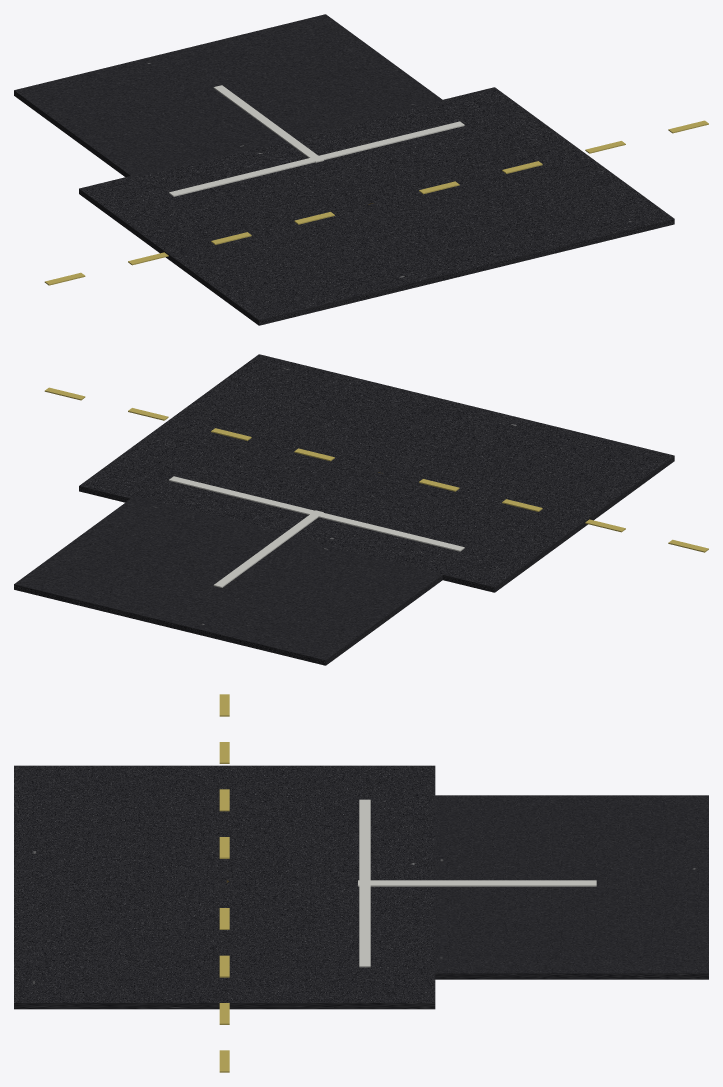
Rendered from WK_TER_RoadTee.glb.
3 renders of one model, top to bottom at view 1: azimuth 30°, elevation 25°; view 2: azimuth 150°, elevation 25°; view 3: azimuth 270°, elevation 25°, orthographic. The views are drawn at different scales.
Parts seen in each view (by area): view 1: WK_TER_RoadTee_P02, WK_TER_RoadTee_P04, WK_TER_RoadTee_P01, WK_TER_RoadTee_P14, WK_TER_RoadTee_P13, WK_TER_RoadTee_P03; view 2: WK_TER_RoadTee_P02, WK_TER_RoadTee_P04, WK_TER_RoadTee_P03, WK_TER_RoadTee_P14, WK_TER_RoadTee_P01, WK_TER_RoadTee_P13; view 3: WK_TER_RoadTee_P02, WK_TER_RoadTee_P04, WK_TER_RoadTee_P01, WK_TER_RoadTee_P14, WK_TER_RoadTee_P03, WK_TER_RoadTee_P13.
Boxes of the visible parts, x1=… form: WK_TER_RoadTee_P02: x1=79, y1=87, x2=674, y2=320; WK_TER_RoadTee_P04: x1=14, y1=14, x2=444, y2=177; WK_TER_RoadTee_P01: x1=79, y1=189, x2=674, y2=325; WK_TER_RoadTee_P14: x1=169, y1=121, x2=464, y2=196; WK_TER_RoadTee_P13: x1=213, y1=85, x2=323, y2=162; WK_TER_RoadTee_P03: x1=14, y1=90, x2=130, y2=176; WK_TER_RoadTee_P02: x1=79, y1=354, x2=674, y2=587; WK_TER_RoadTee_P04: x1=14, y1=496, x2=442, y2=660; WK_TER_RoadTee_P03: x1=14, y1=575, x2=442, y2=665; WK_TER_RoadTee_P14: x1=169, y1=476, x2=464, y2=551; WK_TER_RoadTee_P01: x1=79, y1=456, x2=674, y2=592; WK_TER_RoadTee_P13: x1=213, y1=510, x2=323, y2=587; WK_TER_RoadTee_P02: x1=14, y1=765, x2=435, y2=1002; WK_TER_RoadTee_P04: x1=428, y1=795, x2=708, y2=973; WK_TER_RoadTee_P01: x1=14, y1=1003, x2=435, y2=1009; WK_TER_RoadTee_P14: x1=359, y1=799, x2=370, y2=967; WK_TER_RoadTee_P03: x1=435, y1=973, x2=708, y2=979; WK_TER_RoadTee_P13: x1=358, y1=880, x2=596, y2=886.
Size of the model in its own units: 12.7 by 0.123 by 9.9.
Materials: 4 (2 with a texture image).
